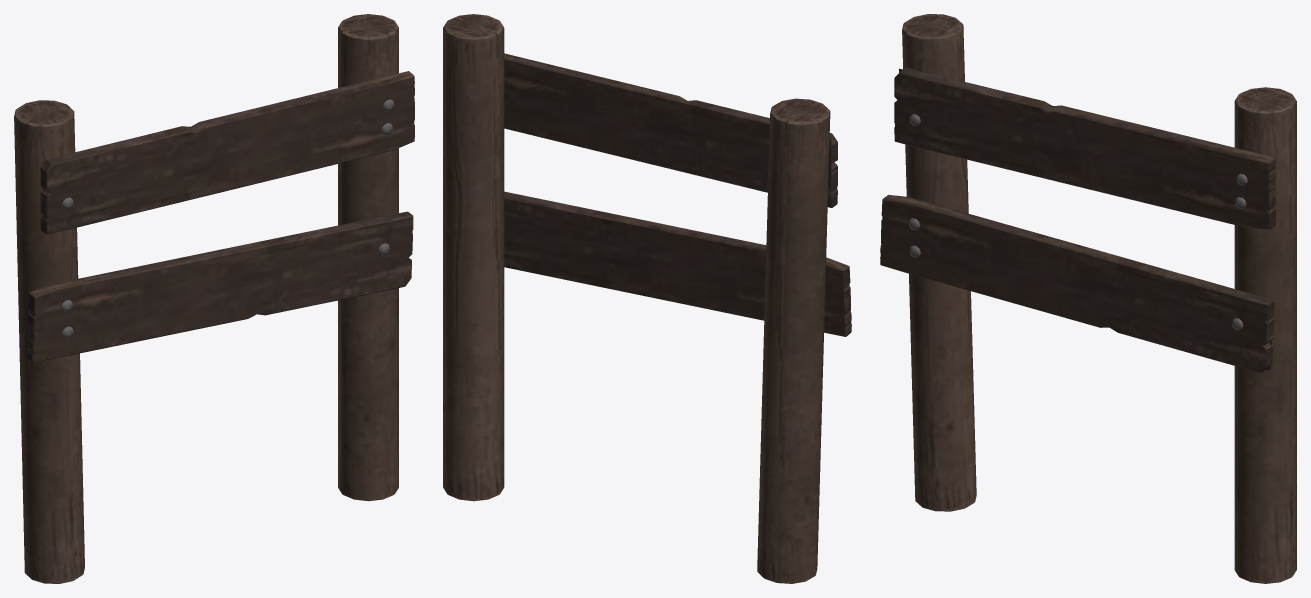
File: Fence02.glb
The picture shows the model from 3 angles, left to right: view 1: azimuth 30°, elevation 25°; view 2: azimuth 150°, elevation 25°; view 3: azimuth 330°, elevation 25°; orthographic projection.
Visible parts, largest first — view 1: FenceB; view 2: FenceB; view 3: FenceB.
Boxes of the visible parts, left/top/right/bottom form: FenceB: left=14, top=14, right=414, bottom=583; FenceB: left=443, top=14, right=851, bottom=583; FenceB: left=880, top=14, right=1296, bottom=583.
Bounding box in the file's own units: 1.03 × 1.21 × 0.1793.
2 materials, 2 textured.
